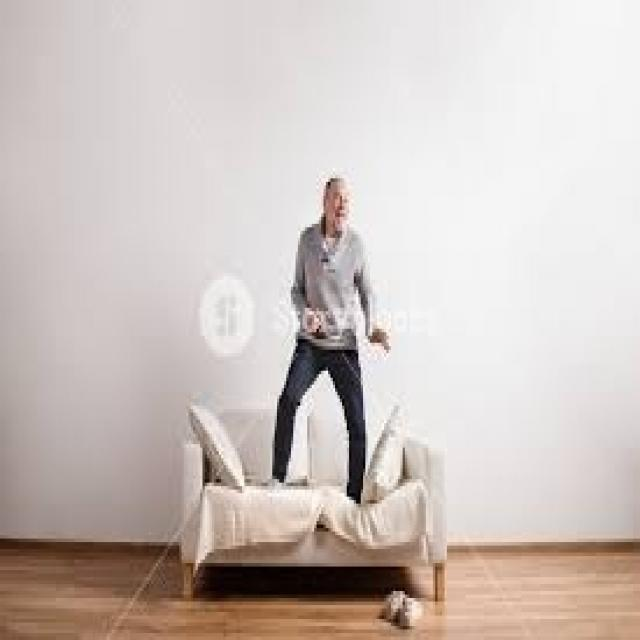walking: (272, 166, 388, 516)
